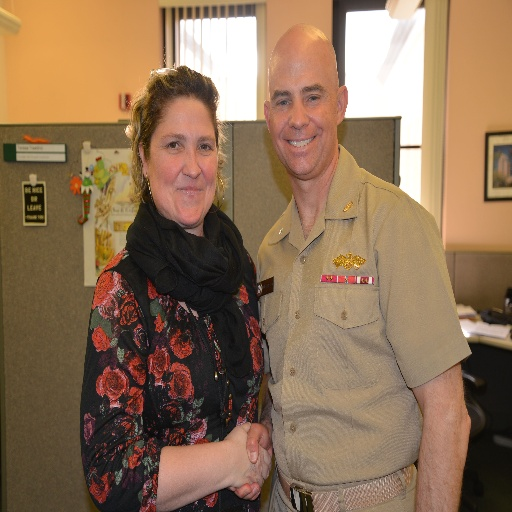hand: (229, 421, 273, 502)
